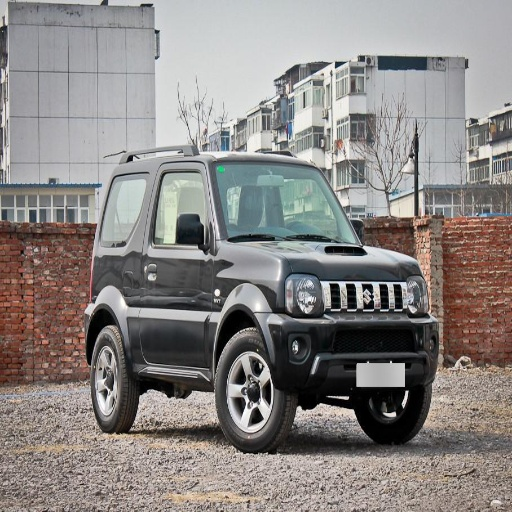front_bumper: (262, 280, 441, 400)
front_right_door: (141, 166, 212, 363)
front_right_light: (282, 274, 327, 317)
